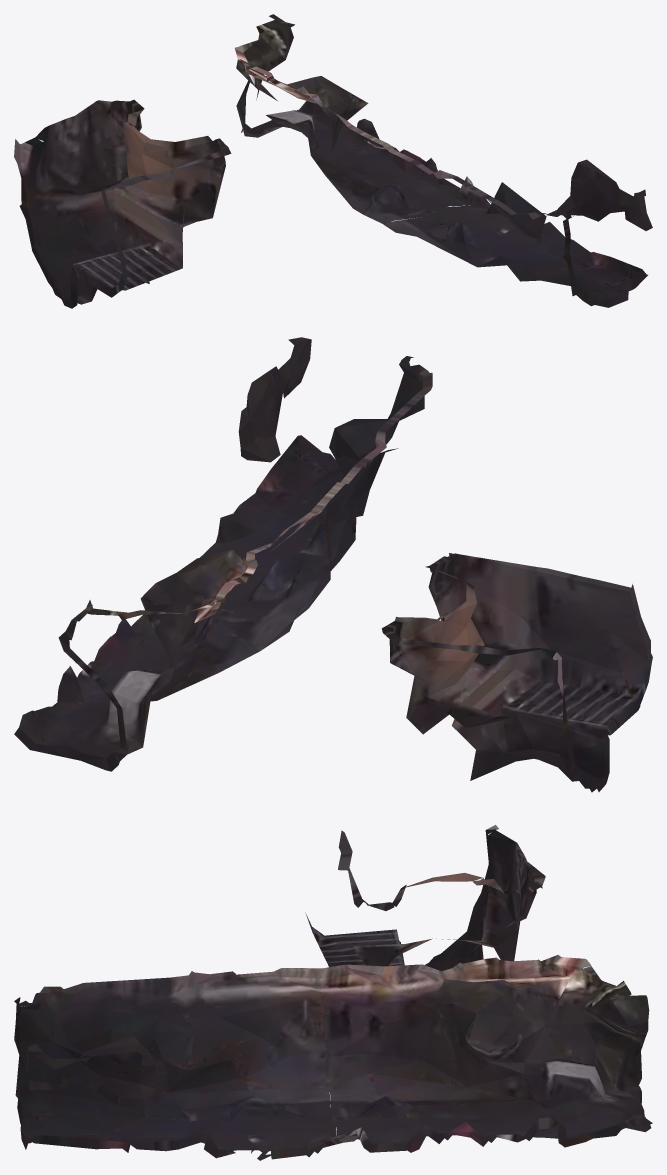
3 views of the same model, one above another, from view 1: azimuth 30°, elevation 25°; view 2: azimuth 150°, elevation 25°; view 3: azimuth 270°, elevation 25° (orthographic). The views are drawn at different scales.
Visible parts, largest first — view 1: Mesh_0; view 2: Mesh_0; view 3: Mesh_0.
Boxes of the visible parts, x1,y1,x2,y2 form: Mesh_0: [14, 14, 652, 308]; Mesh_0: [14, 337, 652, 792]; Mesh_0: [14, 825, 652, 1160].
Size of the model in its own units: 33.13 by 10.78 by 38.83.
1 material, 1 textured.
